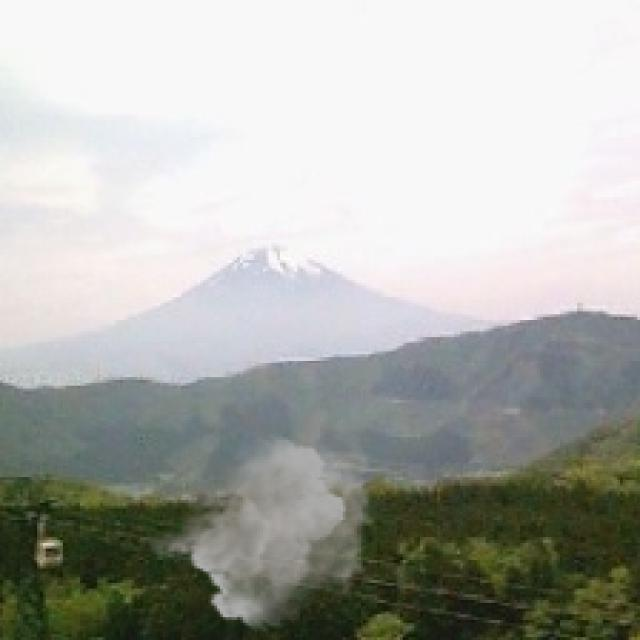Smoke: (146, 406, 377, 632)
